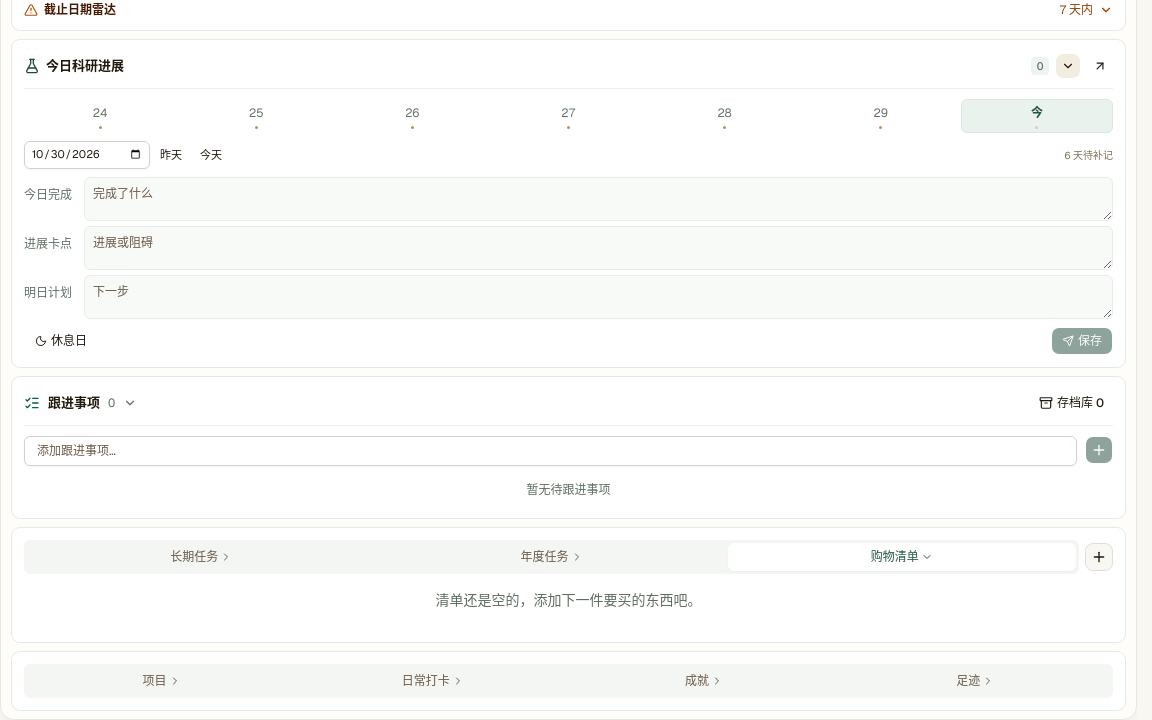
Test case: TaskDashboard task list sections › opens the shopping add dialog from its visible section
This screenshot has width=1152, height=720.
(page scrolled)
Click the button named "添加购物项" at (1099, 557), box [1085, 543, 1113, 571]
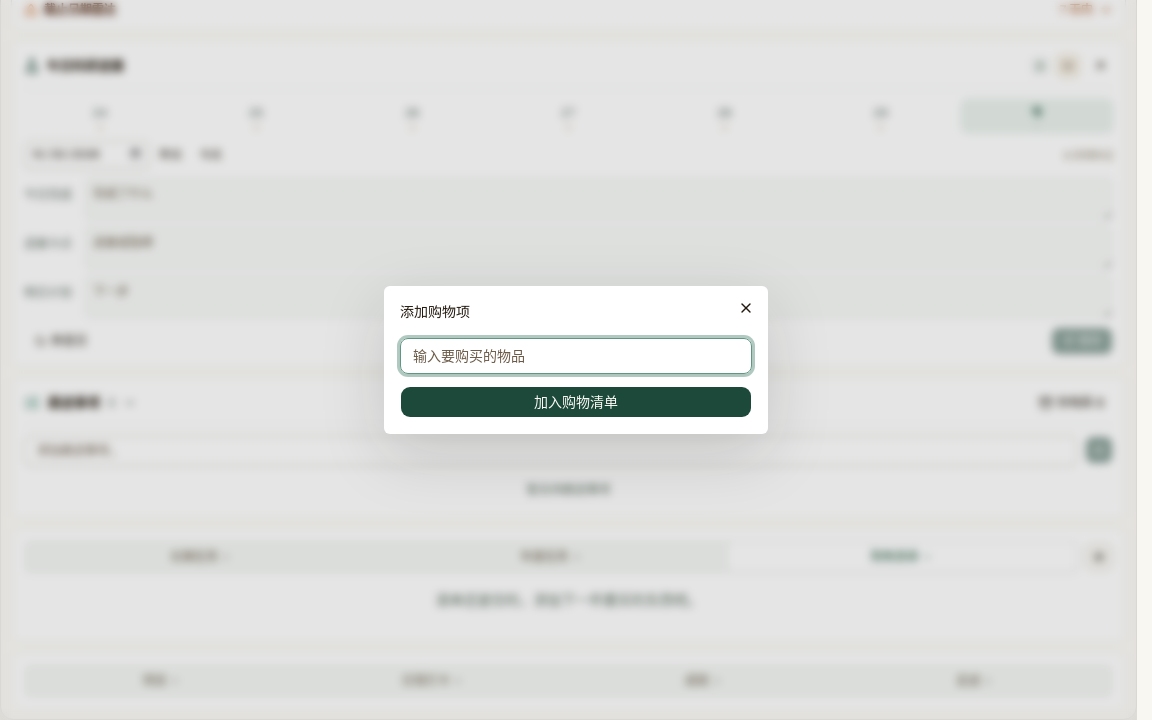
Expected: the dialog "添加购物项" is shown, [384, 286, 768, 434]
